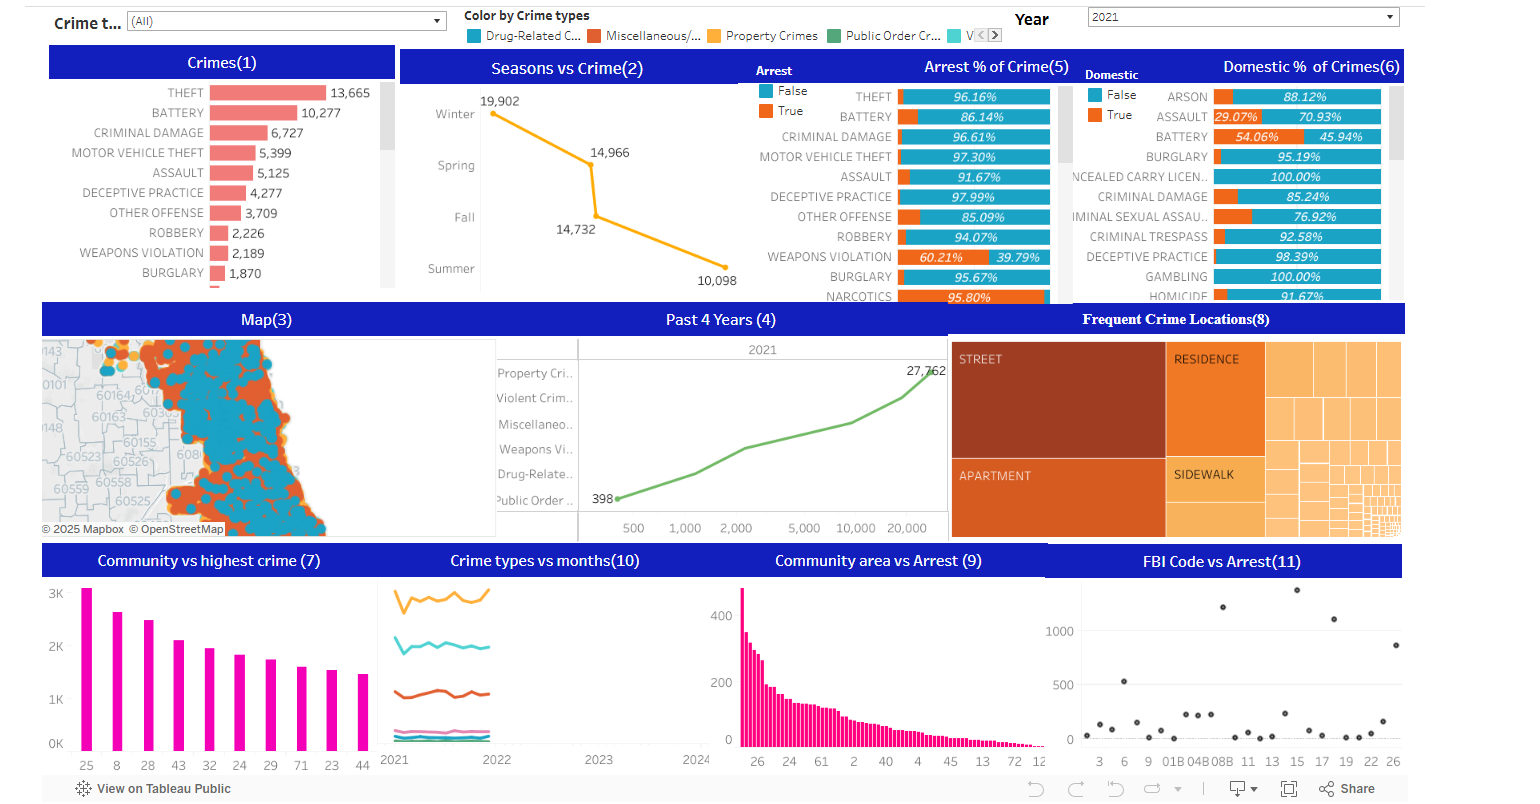

This screenshot's page, from the dashboard's own definition file:
{"tool":"tableau","page":{"name":"Chicago Crime Analysis","canvas":[1366,768],"ordinal":0},"visuals":[{"type":"filter","title":"Seasons vs Crime ","param":"[federated.001dzyt0kd1tnq1aolplo0c2y9n1].[yr:Date:ok]","box":[973,0,386,34]},{"type":"filter","title":"Crimes","param":"[federated.001dzyt0kd1tnq1aolplo0c2y9n1].[none:Calculation_1306888325941985280:n","box":[12,4,394,33]},{"type":"worksheet","title":"Crimes","mark":"Automatic","rows":["Primary Type"],"cols":["Crimes_-_2022_Updated.csv_0448481758484985BB0329E72B87AECA"],"box":[7,38,349,243]},{"type":"worksheet","title":"Seasons vs Crime ","mark":"Line","rows":["Calculation_1252000706182307840"],"cols":["Crimes_-_2022_Updated.csv_0448481758484985BB0329E72B87AECA"],"box":[358,42,338,243]},{"type":"worksheet","title":"Diff. Crime vs Arrest rate ","mark":"Automatic","rows":["Primary Type"],"cols":["Primary Type"],"box":[695,42,339,255]},{"type":"worksheet","title":"Domestic Percentage of Crimes(6)","mark":"Automatic","rows":["Primary Type"],"box":[1011,42,354,251]},{"type":"legend","title":"Diff. Crime vs Arrest rate ","param":"[federated.001dzyt0kd1tnq1aolplo0c2y9n1].[none:Arrest:nk]","box":[700,54,80,87]},{"type":"legend","title":"Domestic Percentage of Crimes(6)","param":"[federated.001dzyt0kd1tnq1aolplo0c2y9n1].[none:Domestic:nk]","box":[1037,56,82,65]},{"type":"worksheet","title":"Past 4 Years","mark":"Line","rows":["Calculation_1306888325941985280"],"cols":["Date","Calculation_1306888325941985280"],"box":[452,295,455,240]},{"type":"worksheet","title":"Frequent Crime Locations(8)","mark":"Automatic","box":[905,296,458,238]},{"type":"worksheet","title":"Crime types vs time   ","mark":"Automatic","rows":["Calculation_1306888325941985280"],"cols":["Date"],"box":[335,536,336,230]},{"type":"worksheet","title":"Community area vs Arrest ","mark":"Automatic","rows":["Calculation_433189998461022213"],"cols":["Community Area"],"box":[667,536,339,226]},{"type":"worksheet","title":"FBI Code vs Arrest","mark":"Shape","rows":["Calculation_433189998461022213"],"cols":["FBI Code"],"box":[1003,537,357,225]}]}

Visuals, with their boxes in screenshot pixels (x1, y1, x2, y2):
"Seasons vs Crime " filter: Rect(1011, 40, 1394, 74)
"Crimes" filter: Rect(56, 44, 447, 77)
"Crimes" worksheet: Rect(51, 78, 398, 319)
"Seasons vs Crime " worksheet (Line marks): Rect(400, 82, 736, 323)
"Diff. Crime vs Arrest rate " worksheet: Rect(735, 82, 1071, 335)
"Domestic Percentage of Crimes(6)" worksheet: Rect(1048, 82, 1400, 331)
"Diff. Crime vs Arrest rate " legend: Rect(740, 94, 819, 180)
"Domestic Percentage of Crimes(6)" legend: Rect(1074, 96, 1156, 160)
"Past 4 Years" worksheet (Line marks): Rect(493, 333, 945, 572)
"Frequent Crime Locations(8)" worksheet: Rect(943, 334, 1398, 571)
"Crime types vs time   " worksheet: Rect(377, 573, 711, 801)
"Community area vs Arrest " worksheet: Rect(707, 573, 1044, 797)
"FBI Code vs Arrest" worksheet (Shape marks): Rect(1041, 574, 1395, 797)
